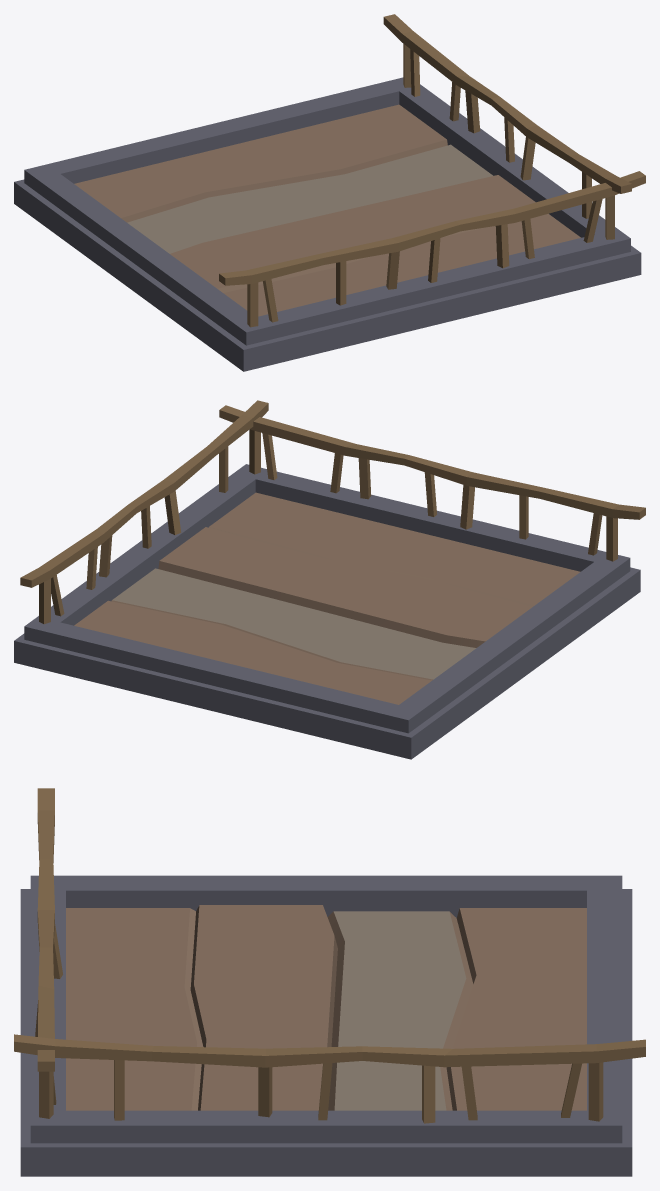
File: SM_Bld_Shanty_Roof_04.fbx
The picture shows the model from 3 angles, top to bottom: view 1: azimuth 30°, elevation 25°; view 2: azimuth 150°, elevation 25°; view 3: azimuth 270°, elevation 25°; orthographic projection. The views are drawn at different scales.
Visible parts, largest first — view 1: SM_Bld_Shanty_Roof_04; view 2: SM_Bld_Shanty_Roof_04; view 3: SM_Bld_Shanty_Roof_04.
Part boxes in pixels (box(x1,y1,x2,y2)): SM_Bld_Shanty_Roof_04: box(14, 14, 645, 371); SM_Bld_Shanty_Roof_04: box(14, 400, 645, 759); SM_Bld_Shanty_Roof_04: box(14, 788, 645, 1176).
Bounding box in the file's own units: 5.7 × 1.24 × 5.58.
